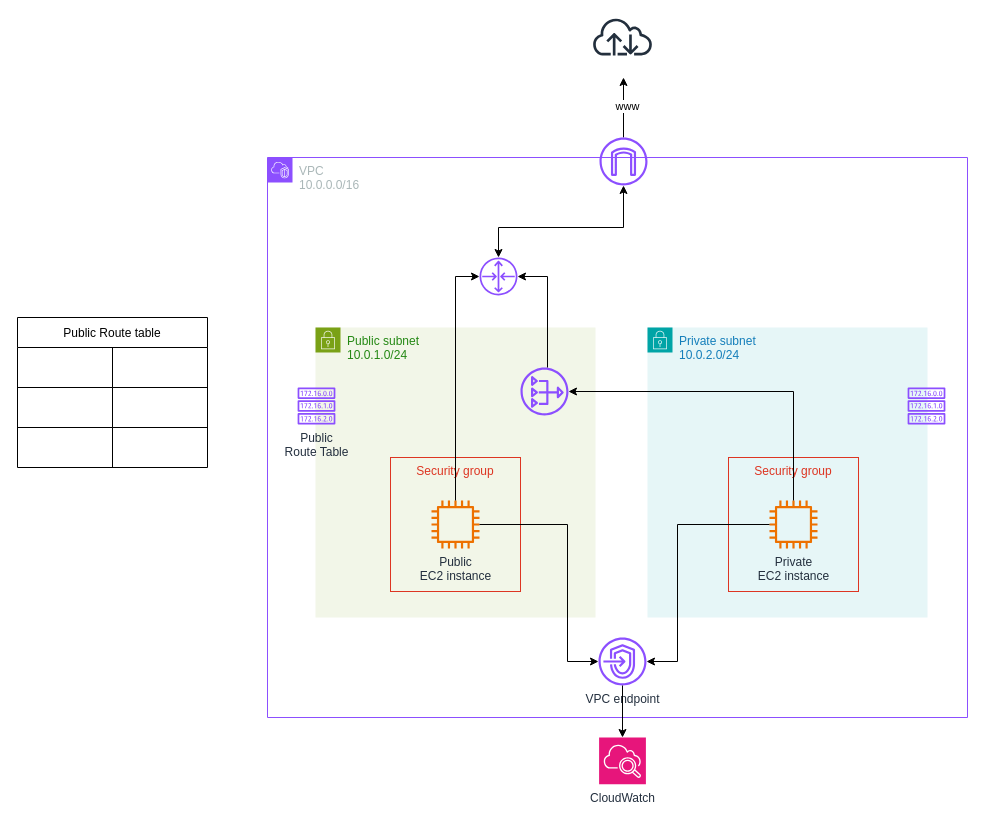
Image size: 985x822. Some labels were removed from this diagram. Each missing label, with the centre of its shape:
"Internet" goes at point (622, 36).
"Internet Gateway" goes at point (623, 161).
"NAT Gatway" goes at point (544, 391).
"Private Route Table" goes at point (926, 405).
"Router" goes at point (498, 276).
